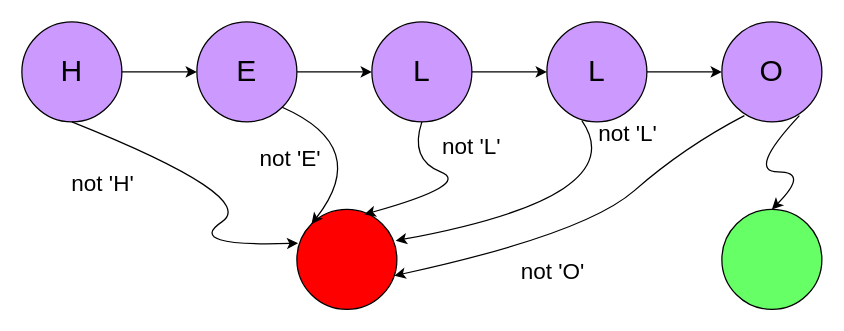
Some shapes in this 844 by 331 pixel diagram are drawn without their labels. The shapes that lost their labels are listed below. From the top down, each one's centre as x and y in pixels, then its label:
At (346,258): "FAIL".
At (771,258): "YES".
